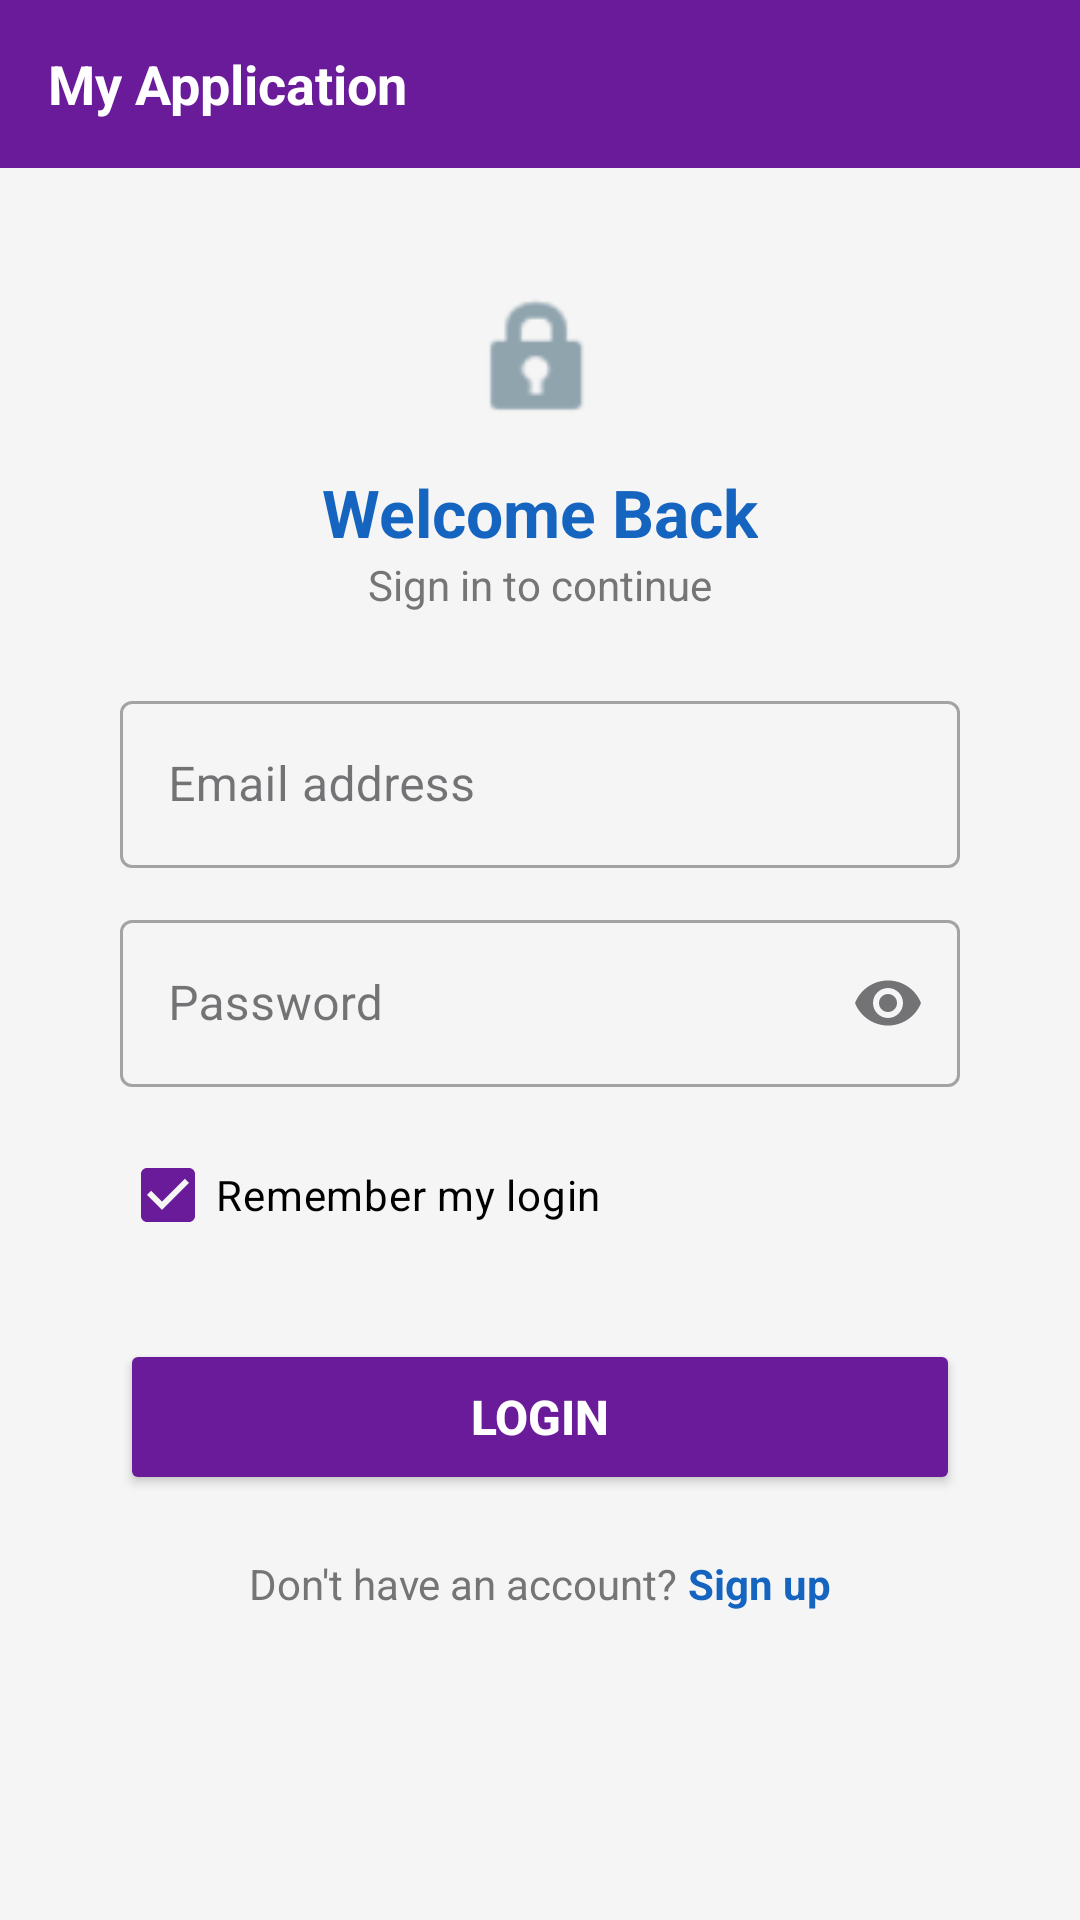

Locate icon controls on the screen. Image size 1080px x 1920px, boxes as [x1=x1, y1=y1, x2=x2, y2=y2].
Lock icon: [x1=490, y1=301, x2=583, y2=410]
